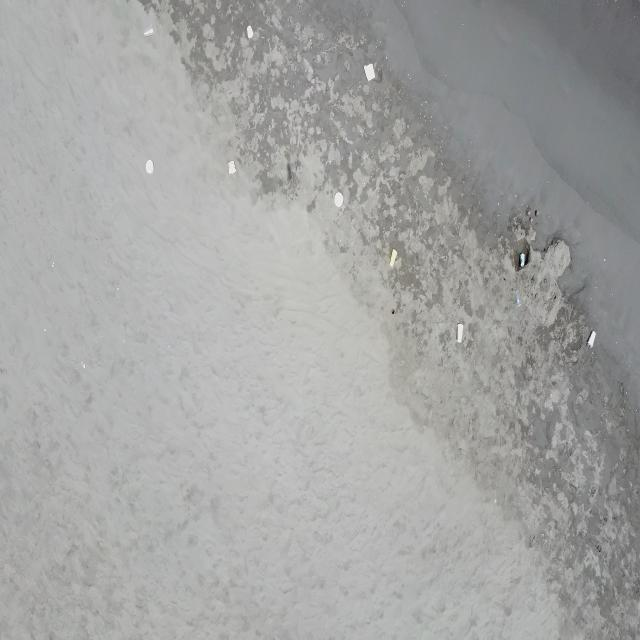take-away-containers: (363, 63, 376, 82), (334, 192, 344, 208), (143, 24, 155, 37), (228, 160, 237, 175), (246, 24, 254, 40), (146, 160, 154, 174)
takeaway-cup: (389, 248, 398, 268), (587, 330, 596, 348), (456, 324, 464, 344), (515, 290, 523, 307), (520, 251, 525, 268)
